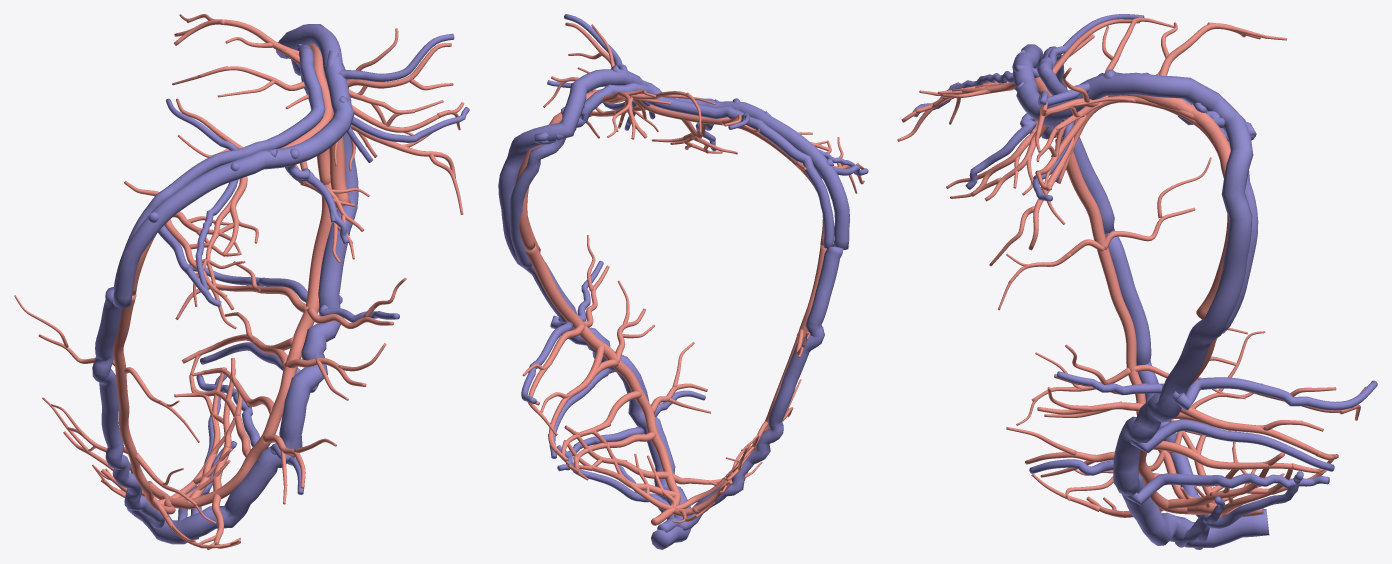
Rendered from vessels_5.glb.
3 views of the same model, side by side, from view 1: azimuth 30°, elevation 25°; view 2: azimuth 150°, elevation 25°; view 3: azimuth 270°, elevation 25° (orthographic). The views are drawn at different scales.
Visible parts, largest first — view 1: Renderer Node; view 2: Renderer Node; view 3: Renderer Node.
Boxes of the visible parts, <box> form: Renderer Node: <box>14,14,469,549</box>; Renderer Node: <box>498,14,868,549</box>; Renderer Node: <box>897,14,1377,549</box>.
Size of the model in its own units: 95.51 by 124 by 95.48.
